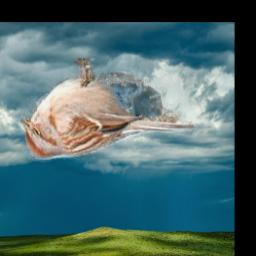Sparrow: (20, 59, 196, 161)
